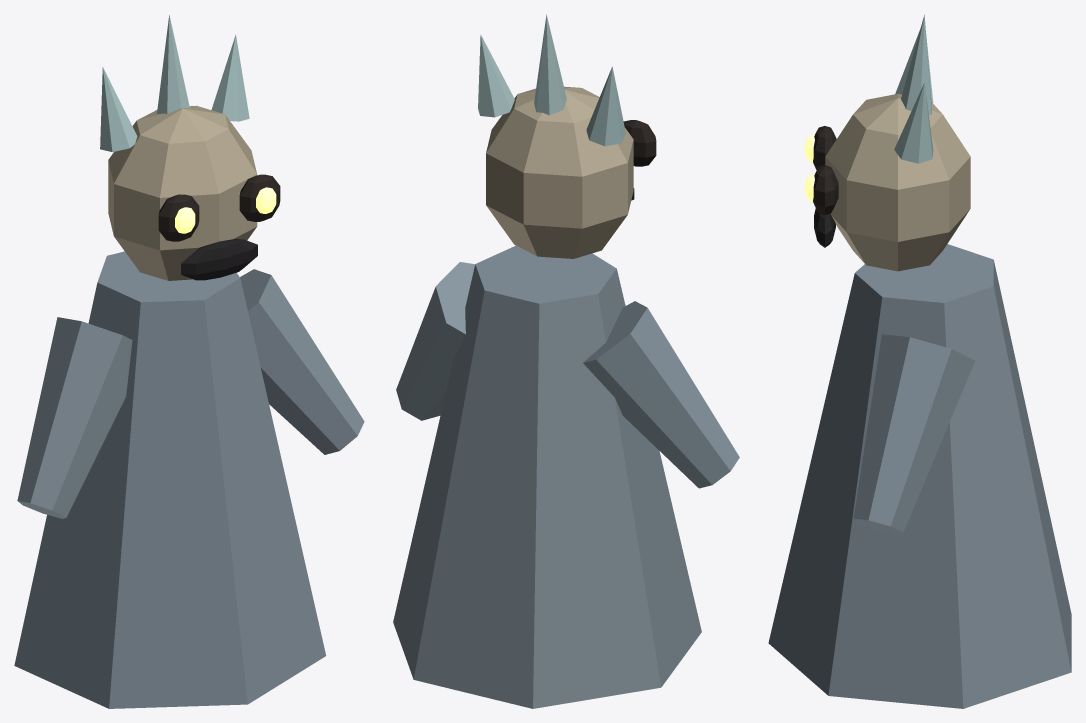
The model's file is fauna-rime_revenant.glb.
3 renders of one model, left to right at view 1: azimuth 30°, elevation 25°; view 2: azimuth 150°, elevation 25°; view 3: azimuth 270°, elevation 25°, orthographic.
Parts seen in each view (by area): view 1: Fauna_rime_revenant; view 2: Fauna_rime_revenant; view 3: Fauna_rime_revenant.
Boxes of the visible parts, left/top/right/bottom form: Fauna_rime_revenant: left=14, top=15, right=364, bottom=708; Fauna_rime_revenant: left=393, top=14, right=739, bottom=708; Fauna_rime_revenant: left=768, top=14, right=1071, bottom=708.
Bounding box in the file's own units: 1.17 × 2.09 × 0.9125.
